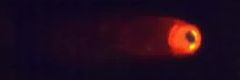keyhole: (184, 30, 197, 46)
